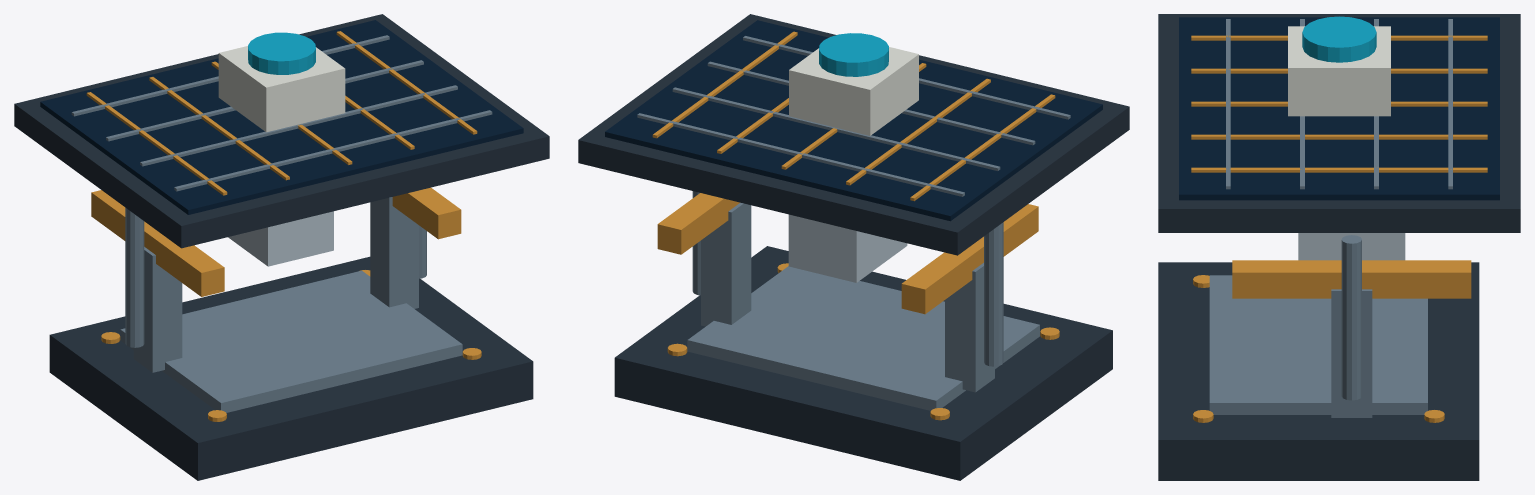
Rendered from 02_Radar_de_Subsuelo.obj.
3 views of the same model, side by side, from view 1: azimuth 30°, elevation 25°; view 2: azimuth 150°, elevation 25°; view 3: azimuth 270°, elevation 25° (orthographic). The views are drawn at different scales.
Visible parts, largest first — view 1: Radar_de_Subsuelo; view 2: Radar_de_Subsuelo; view 3: Radar_de_Subsuelo.
Boxes of the visible parts, x1,y1,x2,y2 form: Radar_de_Subsuelo: (14,14,549,480); Radar_de_Subsuelo: (578,14,1129,480); Radar_de_Subsuelo: (1158,14,1520,480).
Size of the model in its own units: 1.12 by 0.965 by 0.88.
